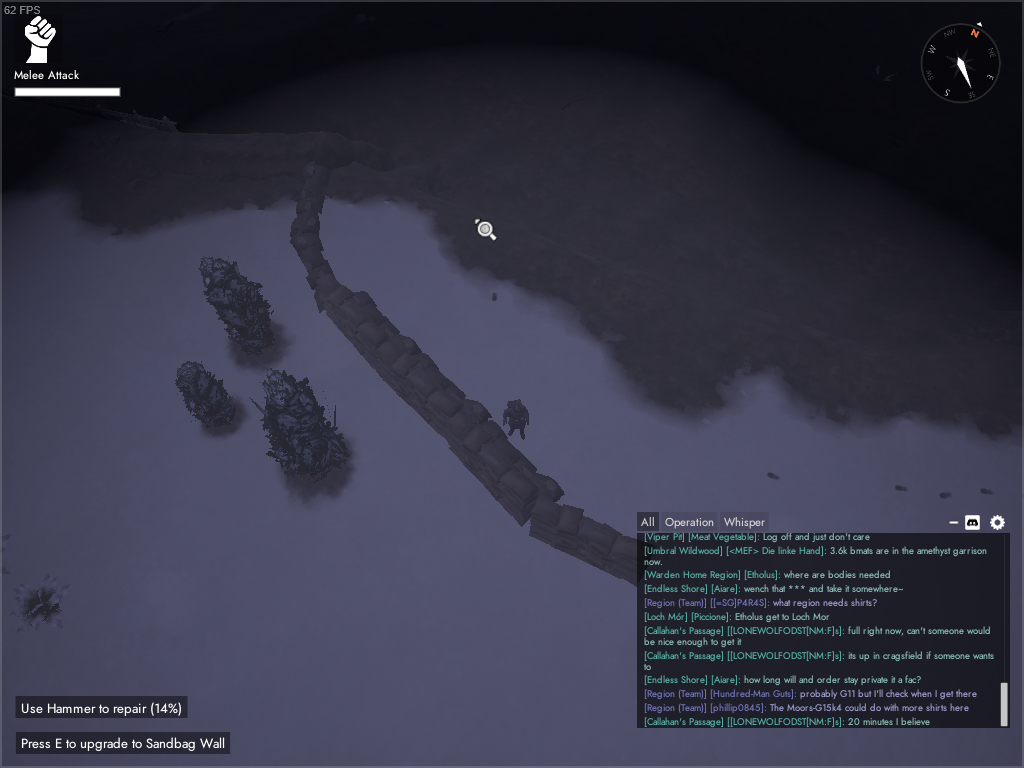player: (501, 398, 531, 443)
sandbag: (426, 387, 567, 527), (324, 288, 468, 425), (528, 497, 667, 592), (289, 232, 344, 315), (288, 159, 331, 251)
